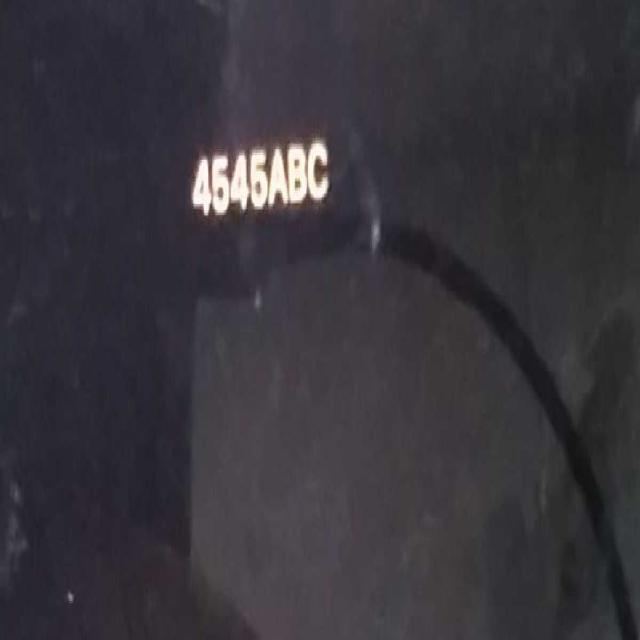license_plate: (185, 134, 343, 242)
